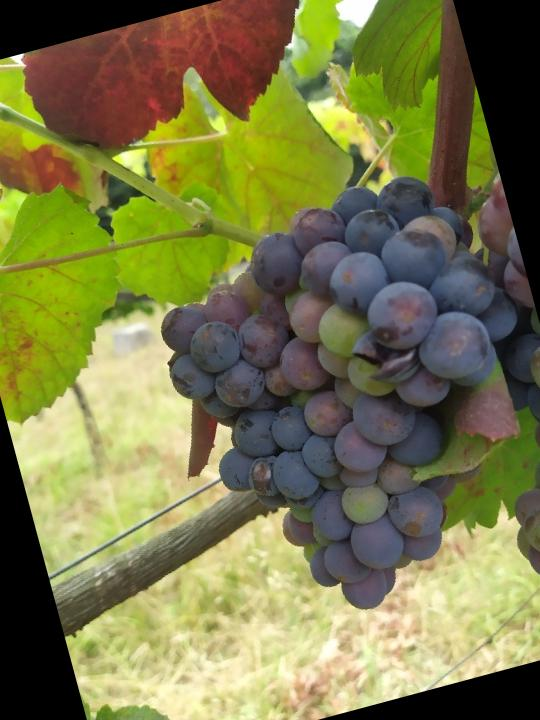grape: (127, 149, 540, 650)
